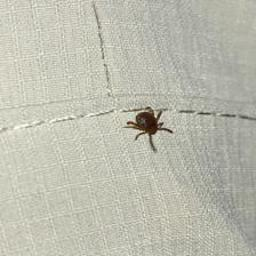Rhipicephalus sanguineus: (121, 106, 173, 153)
